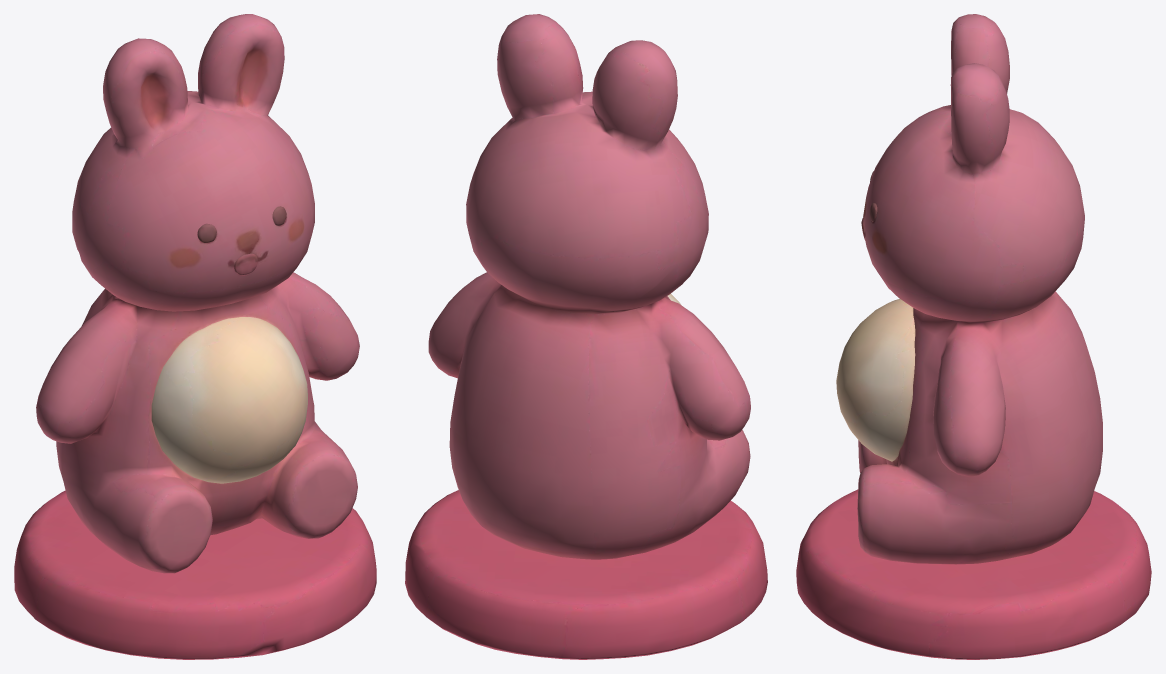
Rendered from bunny-lamp.glb.
3 views of the same model, side by side, from view 1: azimuth 30°, elevation 25°; view 2: azimuth 150°, elevation 25°; view 3: azimuth 270°, elevation 25° (orthographic). The views are drawn at different scales.
Parts seen in each view (by area): view 1: geometry_0; view 2: geometry_0; view 3: geometry_0.
Part boxes in pixels (x1,y1,x2,y2): geometry_0: (14, 14, 376, 659); geometry_0: (405, 14, 767, 659); geometry_0: (796, 14, 1151, 659).
Bounding box in the file's own units: 0.596 × 1 × 0.5931.
Materials: 1 (1 with a texture image).
